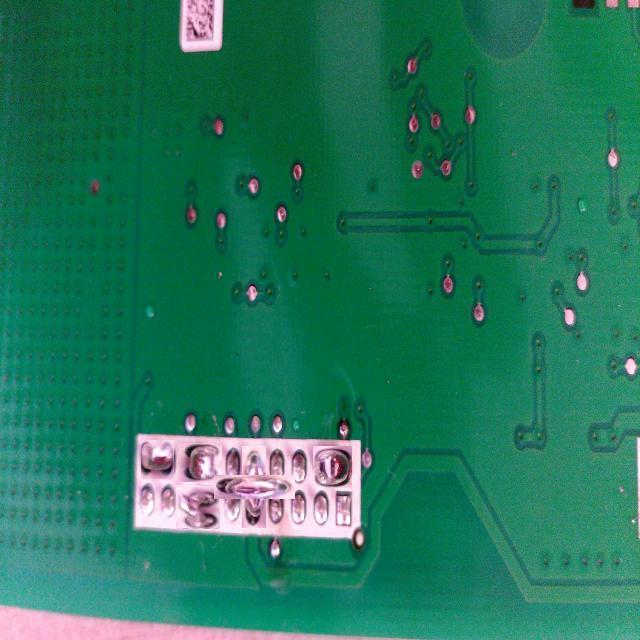Short_circuit: (227, 461, 281, 514), (177, 486, 220, 529), (179, 441, 221, 483), (312, 447, 352, 488), (140, 440, 174, 480)
